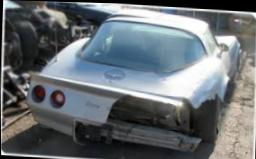Bumper: (98, 93, 220, 153)
